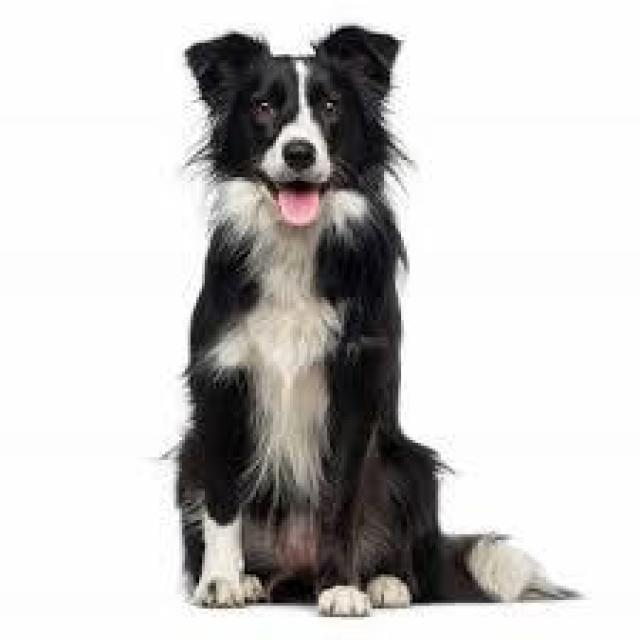Dog: (174, 14, 425, 240)
